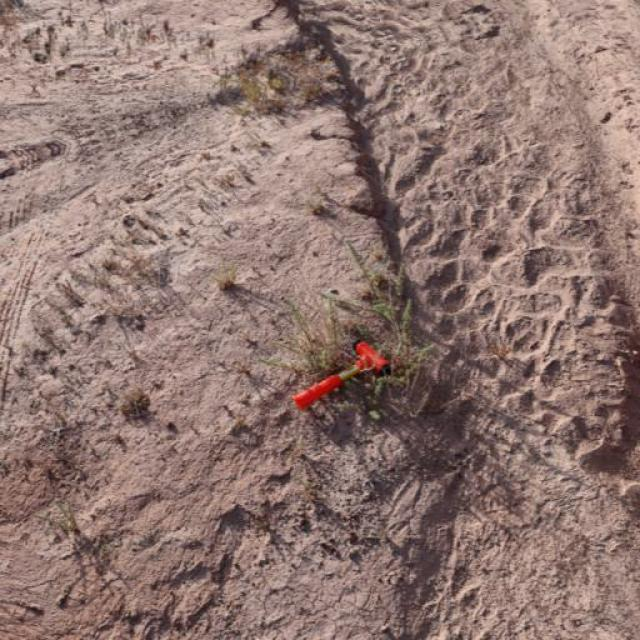mallet: (290, 339, 390, 411)
